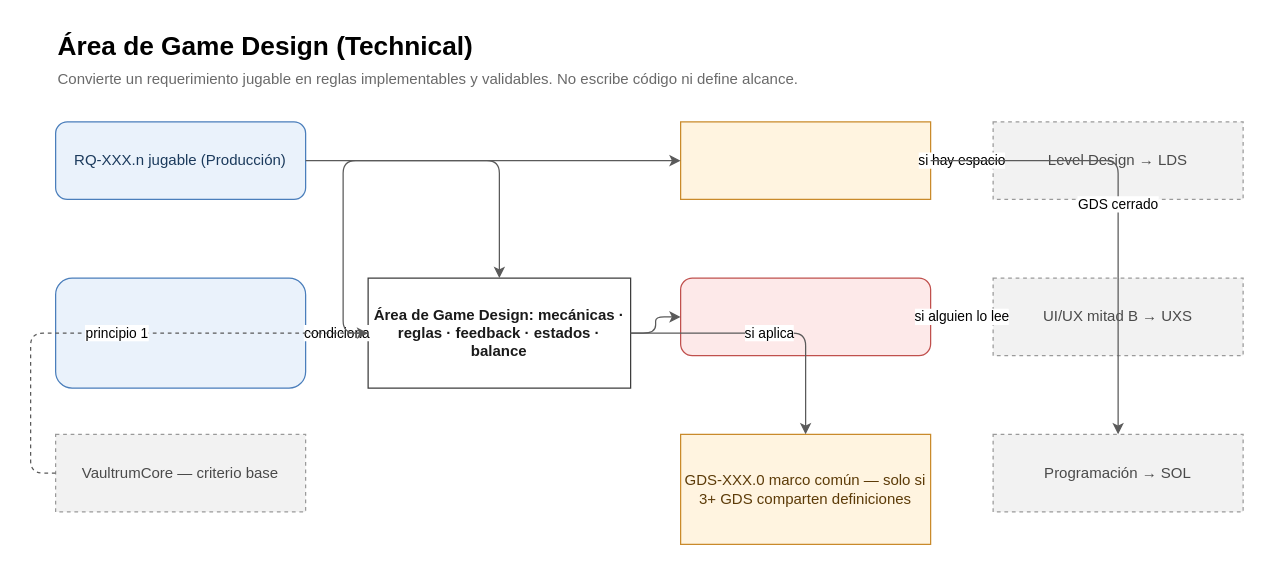
Some shapes in this 1265 by 566 pixel diagram are drawn without their labels. The centre of each missing label's shape, as x and y in pixels:
Declara qué NO aplica y qué dimensión falta: pixel 805 316
GDS-XXX.n Game Design Spec: pixel 805 160
UXS mitad A — presupuesto de comunicación (UI/UX, ANTES del GDS): pixel 180 332
